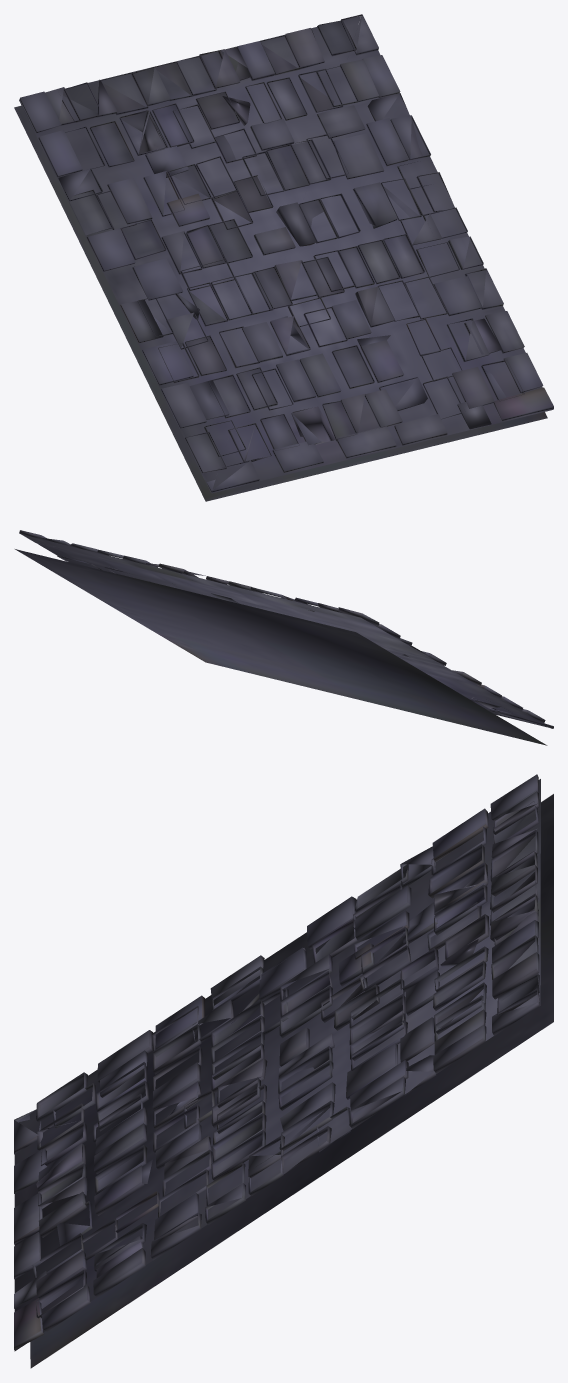
Rendered from roof-slope.lod1.glb.
The picture shows the model from 3 angles, top to bottom: view 1: azimuth 30°, elevation 25°; view 2: azimuth 150°, elevation 25°; view 3: azimuth 270°, elevation 25°; orthographic projection. The views are drawn at different scales.
Size of the model in its own units: 2 by 1.5 by 2.
Materials: 1 (1 with a texture image).
